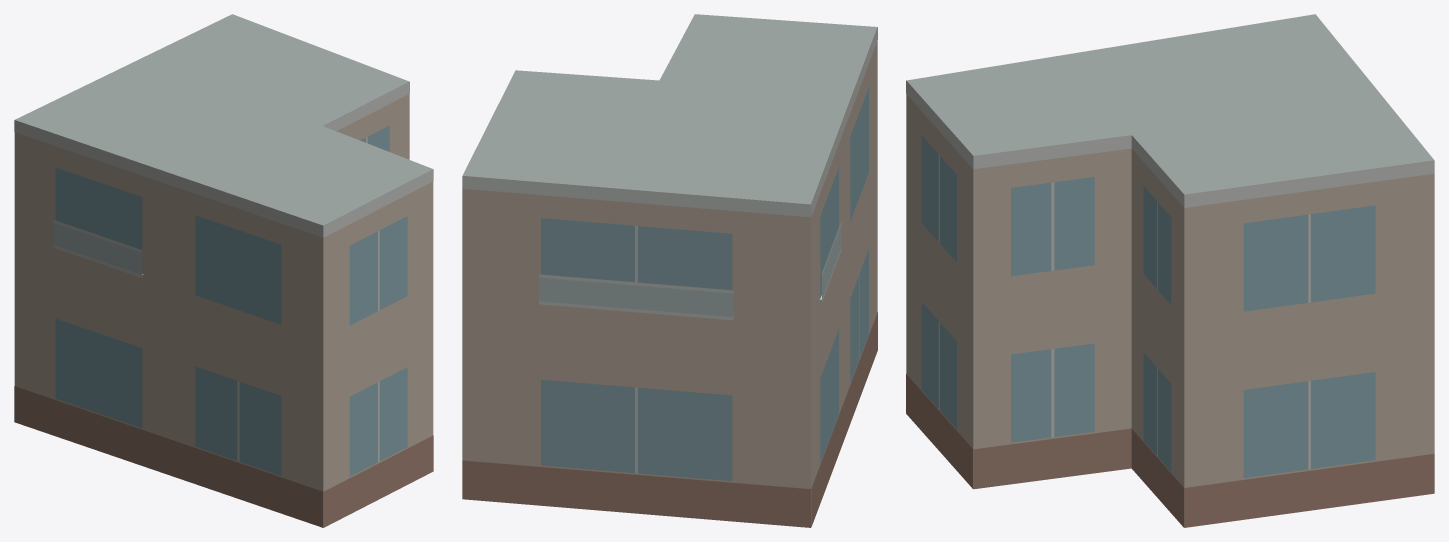
File: survey-upis-32467939.glb
3 views of the same model, side by side, from view 1: azimuth 30°, elevation 25°; view 2: azimuth 150°, elevation 25°; view 3: azimuth 270°, elevation 25° (orthographic). The views are drawn at different scales.
Parts seen in each view (by area): view 1: survey-upis-32467939.tmp; view 2: survey-upis-32467939.tmp; view 3: survey-upis-32467939.tmp.
Boxes of the visible parts, x1=… form: survey-upis-32467939.tmp: x1=14, y1=14, x2=433, y2=527; survey-upis-32467939.tmp: x1=462, y1=14, x2=877, y2=527; survey-upis-32467939.tmp: x1=906, y1=14, x2=1434, y2=527.
Size of the model in its own units: 7.1 by 6.1 by 8.78.
